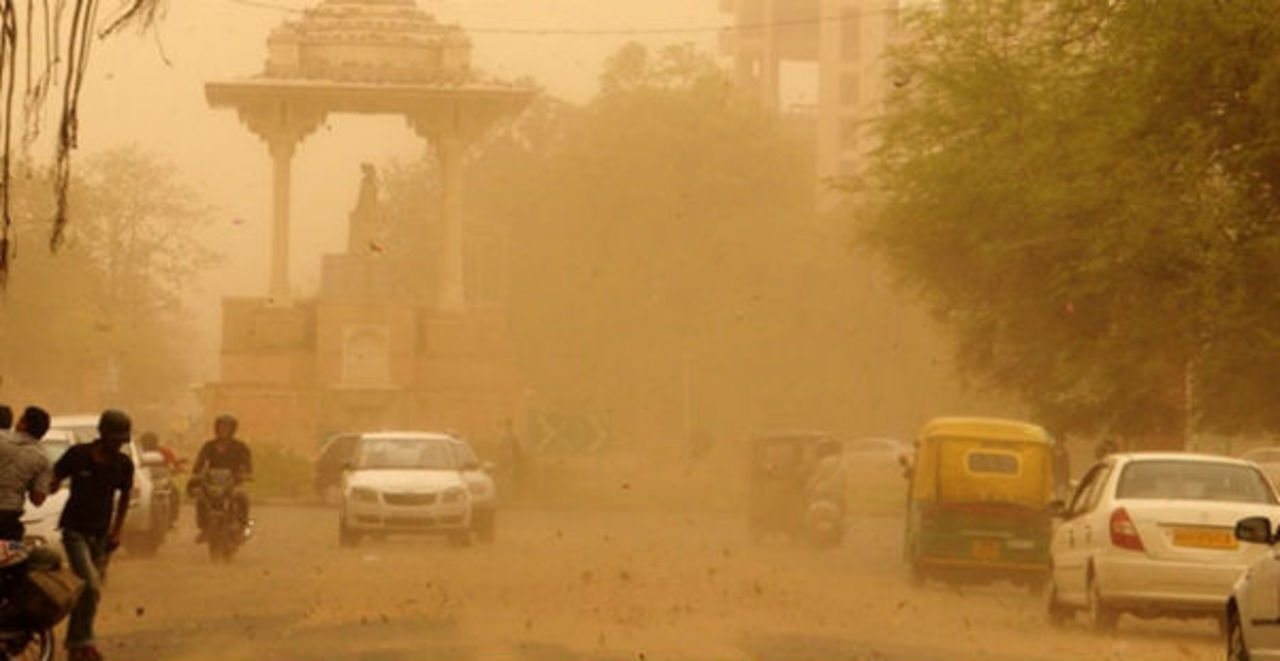car: (1044, 453, 1276, 640), (903, 416, 1058, 589), (39, 402, 154, 548), (339, 429, 467, 546), (749, 428, 842, 544), (1224, 505, 1277, 656), (455, 430, 497, 543), (314, 428, 355, 504)
motorcycle: (187, 471, 253, 560), (142, 454, 184, 540), (795, 493, 846, 547)
person: (46, 408, 134, 656), (196, 414, 253, 537), (5, 404, 51, 538), (809, 438, 853, 535), (140, 422, 179, 507)
